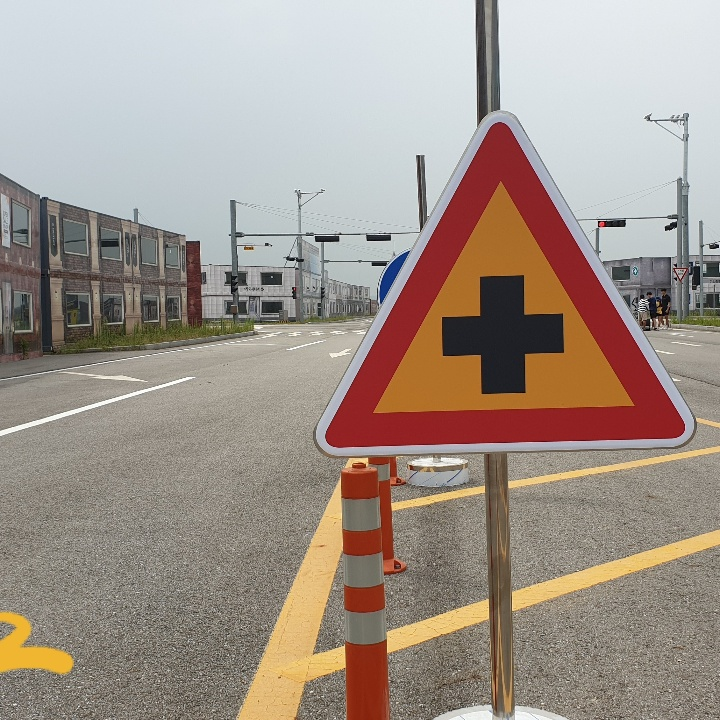inter: (434, 269, 571, 397)
